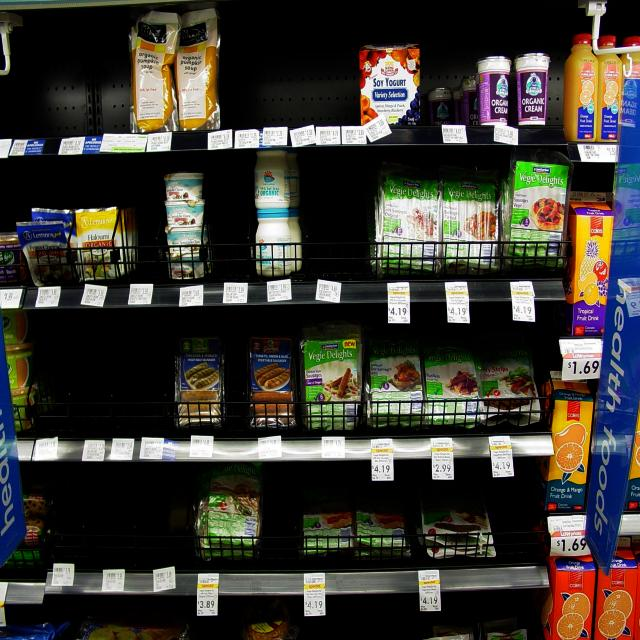empty_space: (50, 327, 164, 423), (236, 20, 354, 109), (18, 33, 126, 123), (65, 485, 164, 555), (310, 181, 364, 267), (332, 608, 416, 640), (219, 180, 249, 267), (500, 488, 538, 552), (140, 178, 162, 272), (271, 482, 295, 552)
